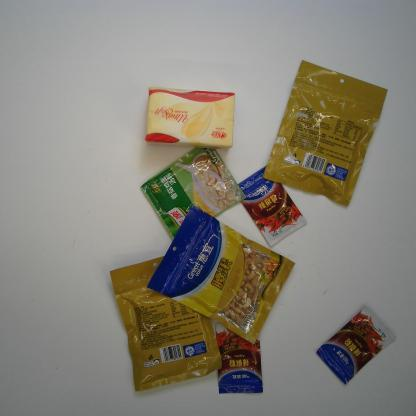Dried Fruit: (145, 206, 296, 345), (262, 59, 388, 208), (110, 256, 224, 392)
Seasoner: (140, 146, 247, 241), (316, 306, 397, 385), (238, 165, 307, 247), (214, 322, 263, 394)
Tissue: (144, 86, 236, 150)
